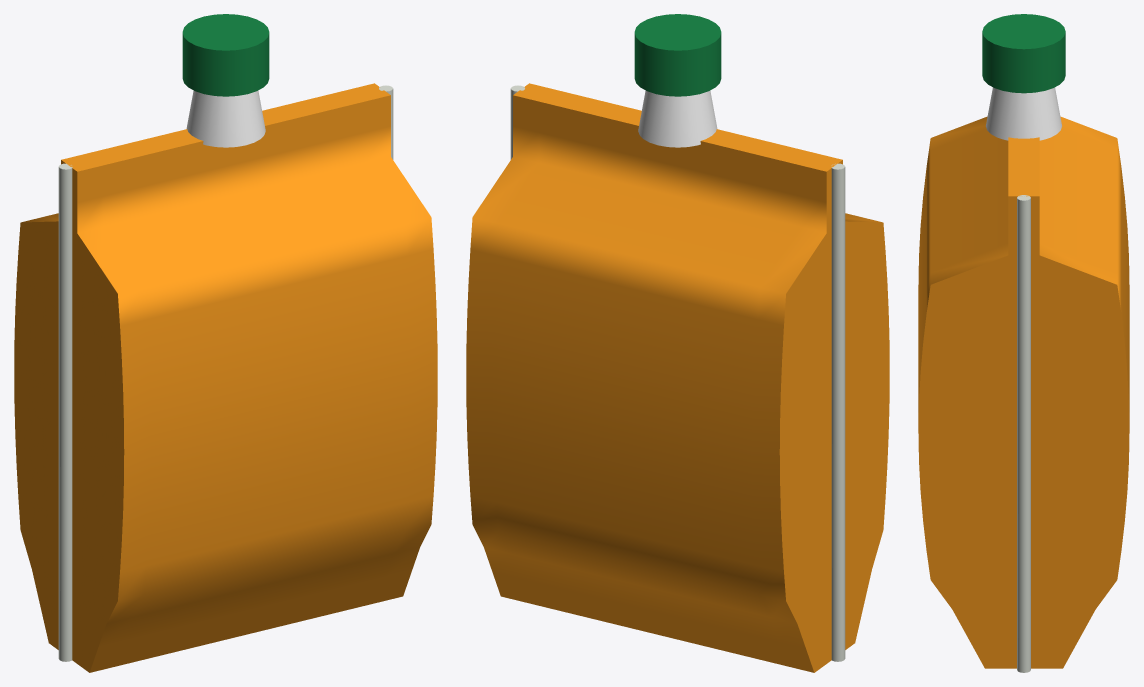
The model's file is mango-pouch.glb.
The picture shows the model from 3 angles, left to right: view 1: azimuth 30°, elevation 25°; view 2: azimuth 150°, elevation 25°; view 3: azimuth 270°, elevation 25°; orthographic projection. The views are drawn at different scales.
Visible parts, largest first — view 1: ProductLabel, object 4, object 3, object 2; view 2: ProductLabel, object 4, object 3, object 2; view 3: ProductLabel, object 5, object 3, object 2.
Part boxes in pixels (box(x1,y1,x2,y2)): ProductLabel: box(14, 83, 437, 672); object 4: box(58, 163, 72, 661); object 3: box(182, 14, 269, 96); object 2: box(186, 91, 265, 147); ProductLabel: box(466, 83, 889, 672); object 4: box(831, 163, 845, 661); object 3: box(634, 14, 721, 96); object 2: box(638, 91, 717, 147); ProductLabel: box(918, 116, 1129, 668); object 5: box(1017, 195, 1030, 672); object 3: box(982, 14, 1065, 93); object 2: box(986, 87, 1061, 140).
Size of the model in its own units: 1.06 by 1.79 by 0.6075.
